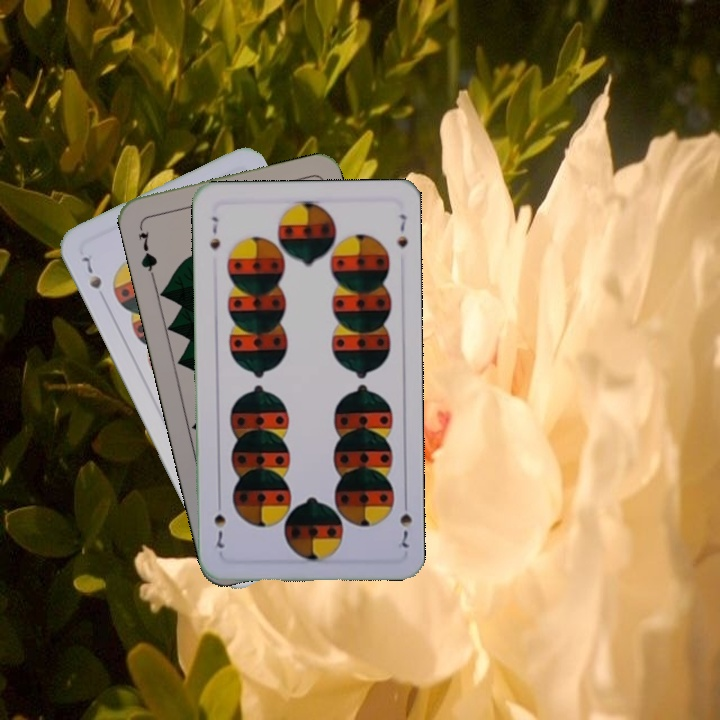G7: (133, 221, 160, 279)
S7: (396, 494, 415, 550), (79, 252, 105, 292), (205, 213, 222, 253)
